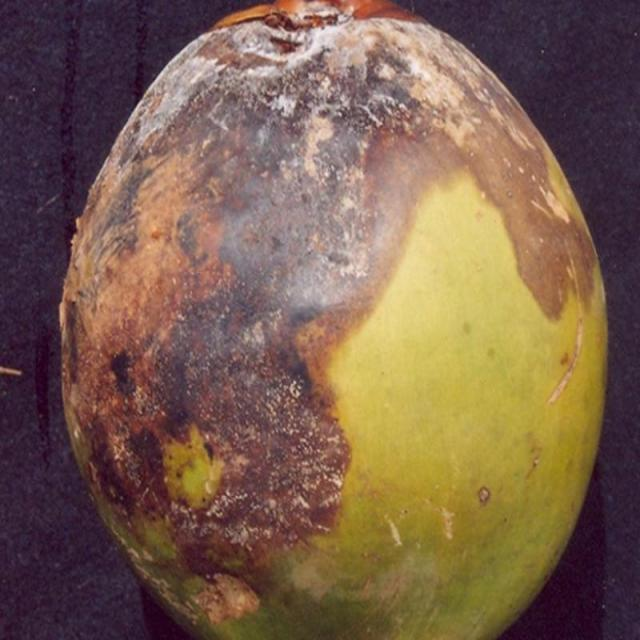damaged: (60, 0, 606, 639)
